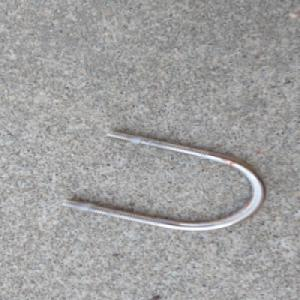ClampPart: (59, 128, 269, 235)
